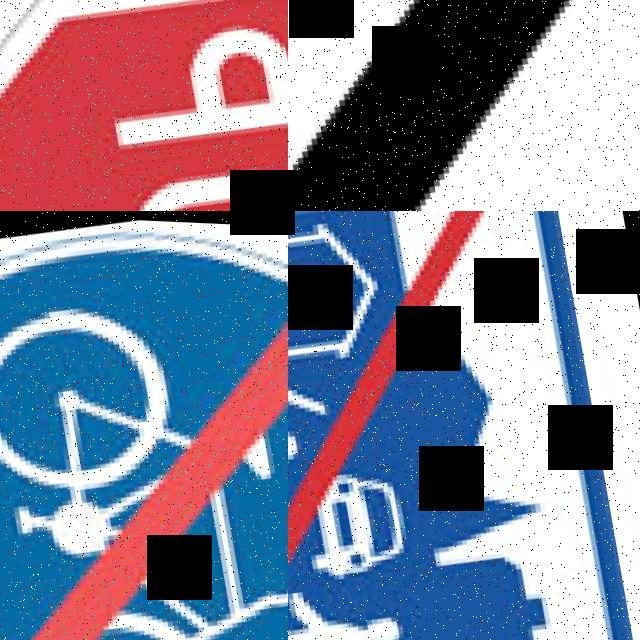112: (0, 211, 288, 640)
53: (288, 211, 640, 640)
End of all restrictions: (288, 0, 640, 211)
Stop: (0, 0, 288, 211)
